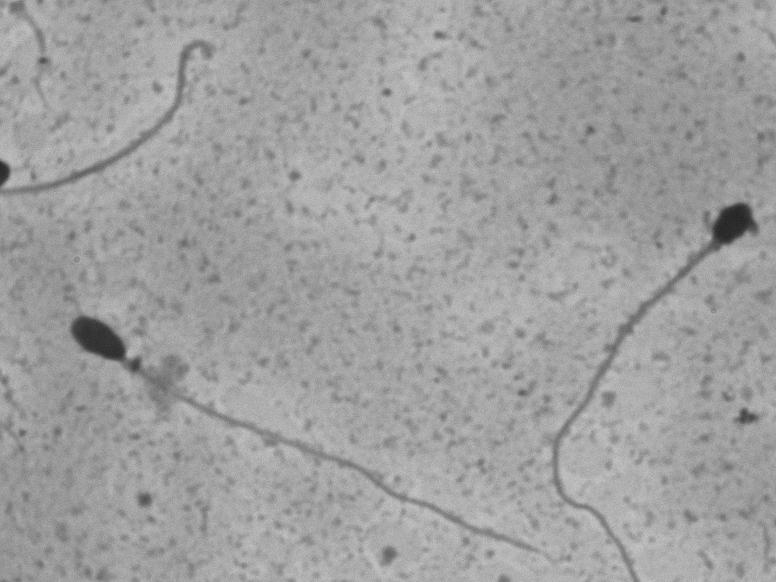Normal: (58, 300, 526, 560), (537, 183, 763, 578)
